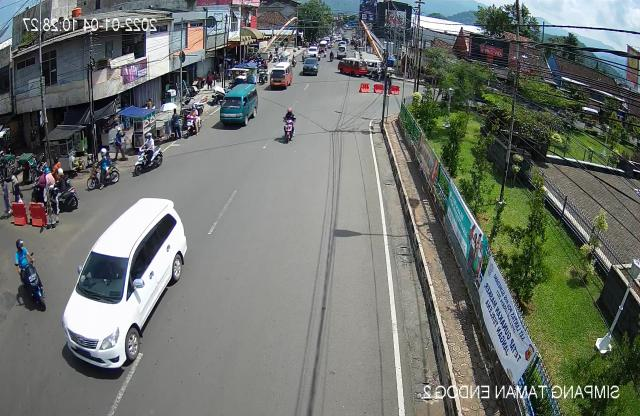Mobil: (59, 195, 190, 384), (214, 81, 259, 133)
Motor: (8, 236, 50, 316), (132, 132, 168, 175), (87, 147, 121, 192), (46, 166, 78, 212), (182, 104, 205, 142), (280, 104, 298, 144)
